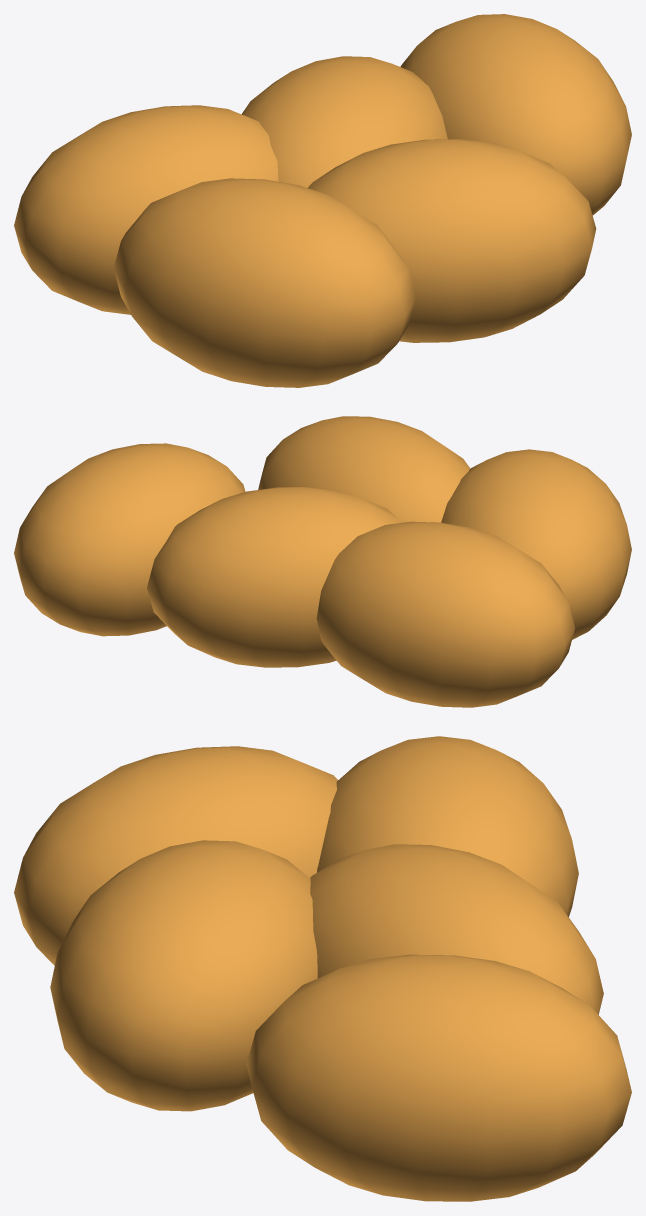
The model's file is nuggets.glb.
The picture shows the model from 3 angles, top to bottom: view 1: azimuth 30°, elevation 25°; view 2: azimuth 150°, elevation 25°; view 3: azimuth 270°, elevation 25°; orthographic projection. The views are drawn at different scales.
Parts seen in each view (by area): view 1: nuggets; view 2: nuggets; view 3: nuggets.
Part boxes in pixels (<box>): nuggets: <box>14,14,631,387</box>; nuggets: <box>14,416,631,707</box>; nuggets: <box>14,736,631,1201</box>.
Bounding box in the file's own units: 0.4401 × 0.13 × 0.3317.
